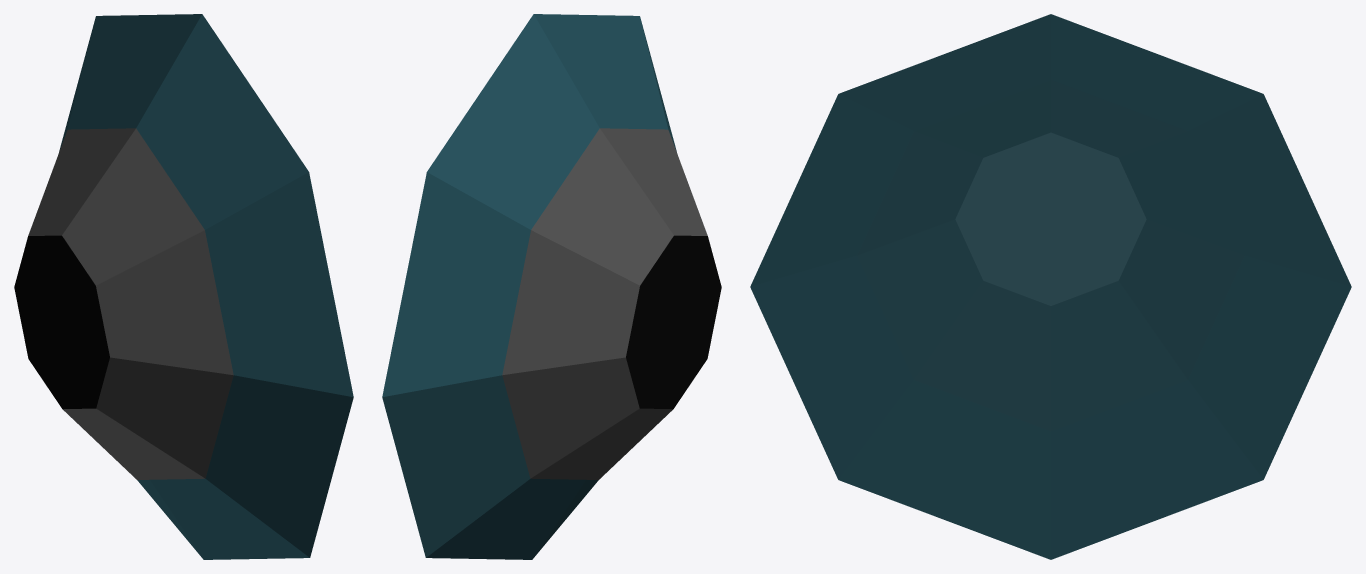
Rendered from Dart Traps.fbx.
The picture shows the model from 3 angles, left to right: view 1: azimuth 30°, elevation 25°; view 2: azimuth 150°, elevation 25°; view 3: azimuth 270°, elevation 25°; orthographic projection.
Visible parts, largest first — view 1: pasted__pasted__pasted__pCylinder1; view 2: pasted__pasted__pasted__pCylinder1; view 3: pasted__pasted__pasted__pCylinder1.
Part boxes in pixels (box(x1,y1,x2,y2)): pasted__pasted__pasted__pCylinder1: box(14, 14, 353, 559); pasted__pasted__pasted__pCylinder1: box(382, 14, 721, 559); pasted__pasted__pasted__pCylinder1: box(750, 14, 1351, 559).
Size of the model in its own units: 1.74 by 6.39 by 6.39.
